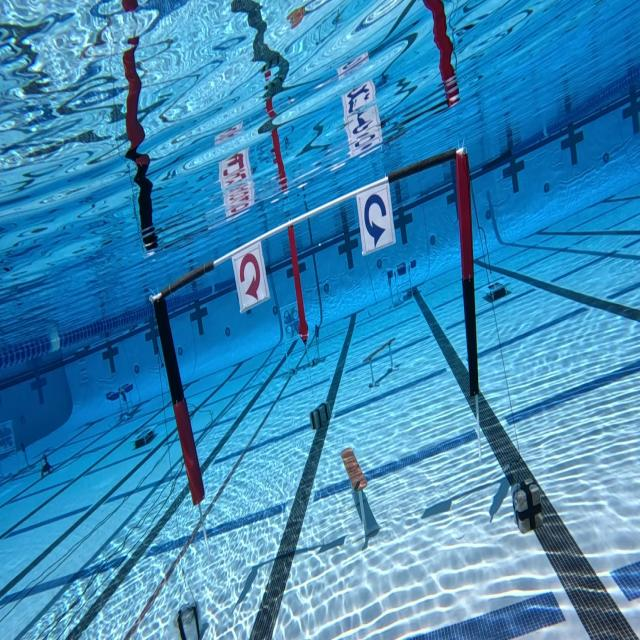blue_side: (352, 183, 402, 262)
red_side: (230, 235, 270, 320)
